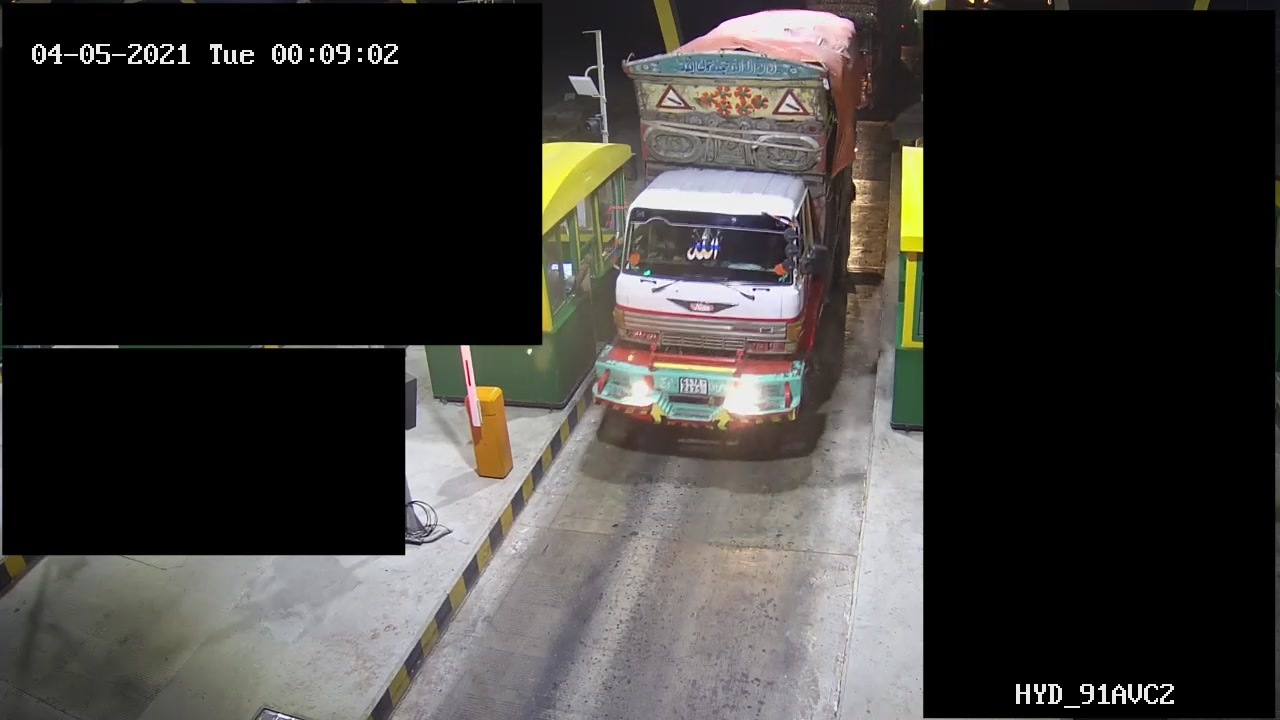F5: (583, 1, 870, 449)
